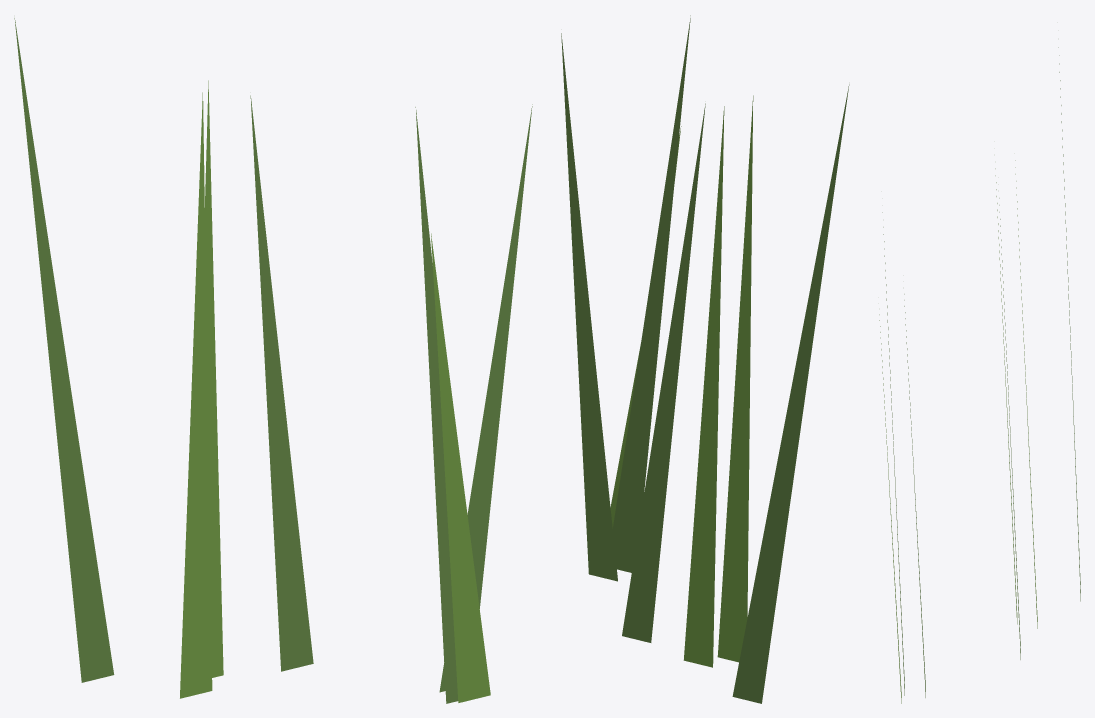
Rendered from weed_lod0.obj.
The picture shows the model from 3 angles, left to right: view 1: azimuth 30°, elevation 25°; view 2: azimuth 150°, elevation 25°; view 3: azimuth 270°, elevation 25°; orthographic projection. The views are drawn at different scales.
Visible parts, largest first — view 1: weed_lod0; view 2: weed_lod0; view 3: weed_lod0.
Part boxes in pixels (x1=…): weed_lod0: x1=14, y1=18, x2=532, y2=703; weed_lod0: x1=561, y1=15, x2=849, y2=703; weed_lod0: x1=879, y1=47, x2=1080, y2=703.
Size of the model in its own units: 0.6448 by 1.03 by 0.3462.
Materials: 1 (1 with a texture image).
